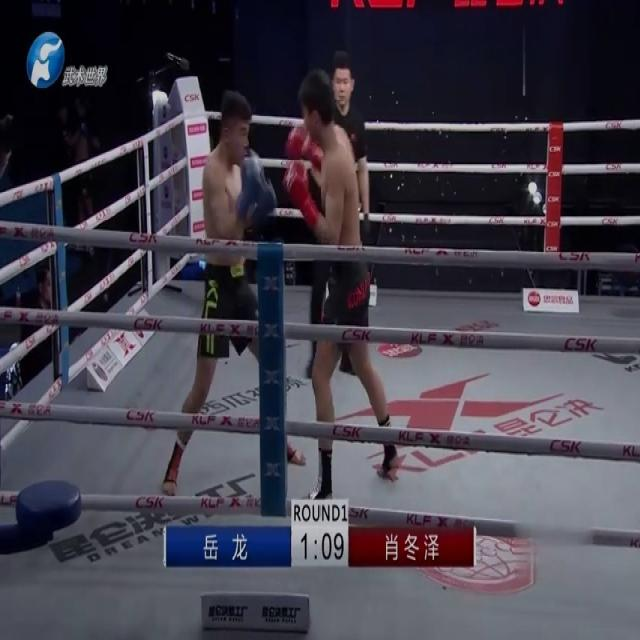fight: (167, 60, 400, 515)
